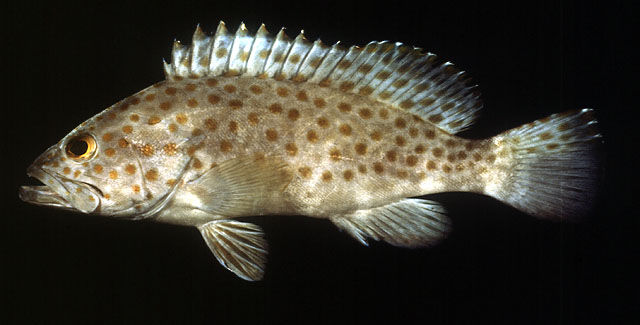fish: (18, 19, 603, 282)
